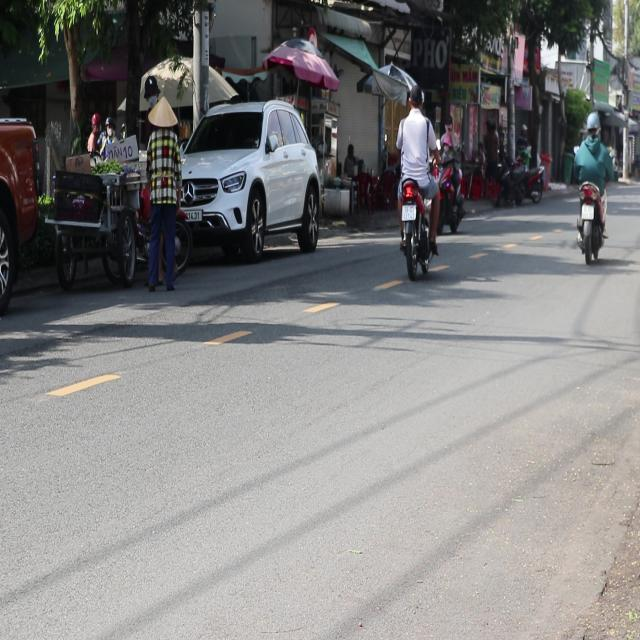helmet: (585, 110, 599, 137)
licenseplate: (394, 81, 441, 278), (572, 110, 612, 262)
motorcyclist: (406, 82, 423, 112)
nohelmet: (401, 204, 416, 220), (581, 204, 594, 218)
